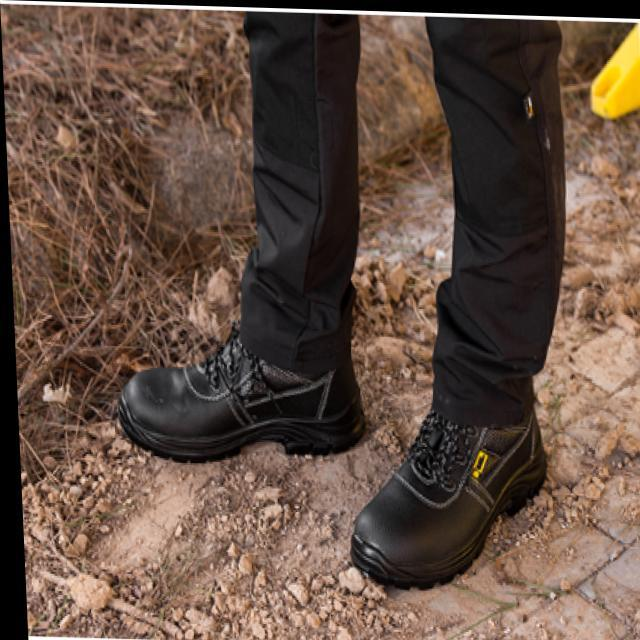shoes: (106, 248, 561, 597)
